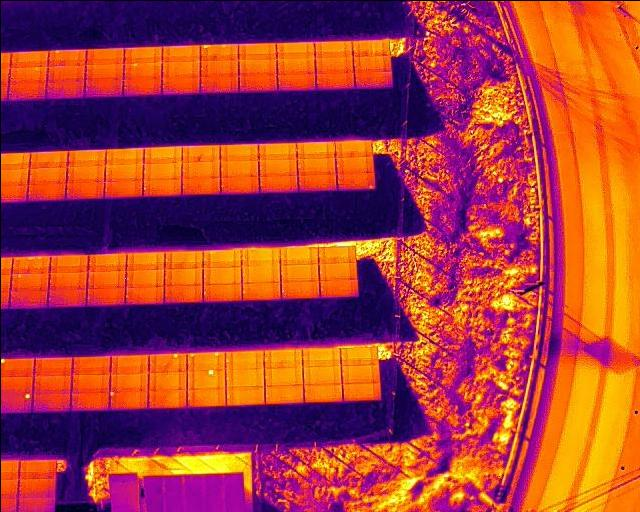Cell: (148, 353, 186, 372), (186, 368, 224, 387), (109, 390, 147, 408), (123, 60, 162, 76), (47, 49, 85, 65), (336, 173, 374, 189)
Cell-Multi: (187, 351, 225, 369), (199, 42, 238, 58)
No-Anomaly: (84, 77, 122, 97), (9, 289, 48, 308), (301, 347, 340, 366), (263, 349, 302, 368), (224, 350, 263, 369), (225, 368, 264, 387), (225, 385, 264, 404), (314, 39, 353, 58), (8, 65, 47, 84), (160, 74, 199, 93), (318, 279, 357, 298), (110, 354, 148, 373), (147, 371, 185, 390), (342, 382, 380, 401), (200, 58, 238, 77), (277, 71, 315, 90), (199, 74, 239, 92), (18, 458, 55, 477), (18, 478, 55, 497), (70, 373, 109, 391), (185, 388, 224, 406), (147, 389, 186, 407), (237, 41, 276, 59), (85, 46, 124, 64), (122, 76, 161, 94), (142, 161, 181, 179), (240, 248, 279, 266), (125, 252, 164, 270), (202, 266, 241, 284), (241, 281, 280, 299), (163, 284, 202, 302), (202, 283, 241, 301), (125, 268, 164, 286), (71, 355, 109, 373), (33, 356, 71, 374), (302, 365, 340, 383), (264, 367, 302, 385), (33, 375, 71, 393), (304, 383, 342, 401), (265, 384, 303, 402), (71, 391, 109, 409), (32, 392, 70, 410), (276, 40, 314, 58), (354, 70, 392, 88), (238, 72, 276, 90), (296, 140, 334, 158), (258, 142, 296, 160), (143, 145, 181, 163), (202, 249, 240, 267), (164, 250, 202, 268), (87, 252, 125, 270), (50, 254, 88, 272), (11, 255, 49, 273), (242, 264, 280, 282), (49, 271, 87, 289), (10, 272, 48, 290), (314, 71, 354, 88), (6, 82, 46, 99), (340, 346, 377, 364), (342, 364, 379, 382), (352, 38, 389, 56), (317, 245, 354, 263), (47, 289, 86, 306), (109, 373, 148, 390), (123, 45, 162, 62), (9, 50, 48, 67), (237, 58, 276, 75), (84, 62, 123, 79), (180, 144, 219, 161), (66, 148, 105, 165), (28, 150, 67, 167), (296, 157, 335, 174), (257, 158, 296, 175), (180, 160, 219, 177), (66, 164, 105, 181), (180, 177, 219, 194), (142, 178, 181, 195), (26, 183, 65, 200), (124, 286, 163, 303), (280, 280, 319, 297), (46, 79, 84, 96), (219, 143, 257, 160), (104, 147, 142, 164), (219, 160, 257, 177), (104, 163, 142, 180), (27, 166, 65, 183), (220, 176, 258, 193), (104, 180, 142, 197), (65, 180, 103, 197), (279, 246, 317, 263), (280, 263, 318, 280), (164, 268, 202, 285), (87, 287, 125, 304), (87, 270, 125, 287), (277, 56, 314, 73), (335, 156, 372, 173), (319, 262, 356, 279), (314, 56, 353, 72), (297, 174, 336, 190), (258, 175, 297, 191), (335, 140, 371, 157), (352, 56, 390, 72), (162, 59, 200, 75), (163, 44, 200, 60), (47, 65, 84, 81), (17, 497, 55, 512)
